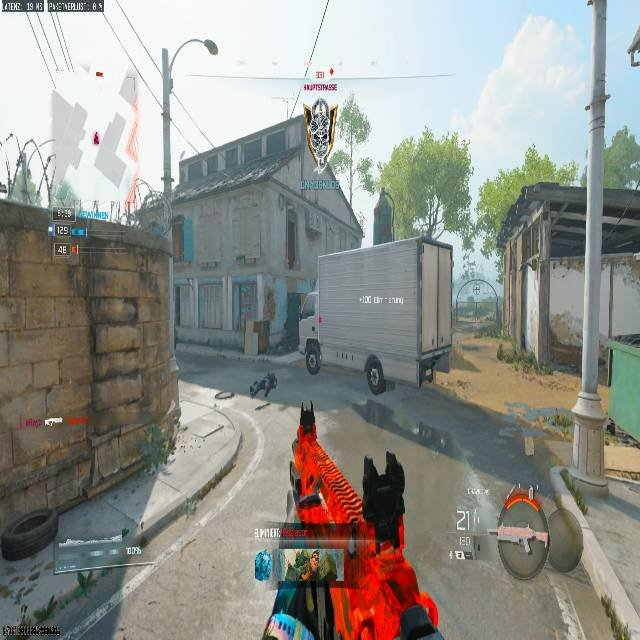player: (302, 330, 322, 377)
